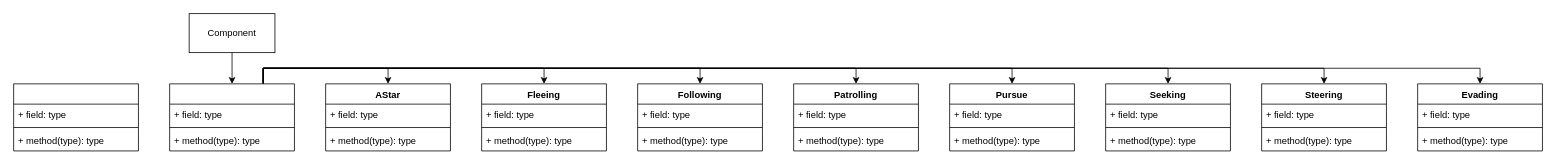
Image size: 1556x167. Some labels were removed from this diagram. Each missing label, with the box of its shape:
AIComponent: (169, 83, 294, 151)
AIController: (13, 83, 138, 151)
